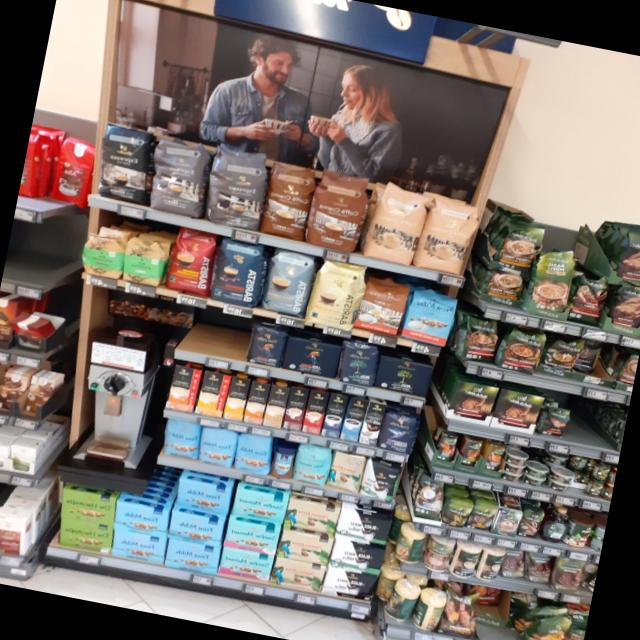Athiopien Bohne: (79, 230, 126, 280)
Athiopien Gemahlen: (120, 236, 168, 288)
BM Bohne: (337, 338, 381, 388)
BM Gemahlen: (374, 356, 434, 399)
BW Bohne: (359, 460, 404, 506)
BW Gemahlen: (334, 510, 392, 550), (328, 540, 386, 578), (322, 566, 378, 604)
Barista CB: (304, 258, 367, 334)
Barista CC: (260, 248, 316, 319)
Barista Espresso: (207, 237, 268, 309)
Barista Kolumbien: (163, 227, 219, 299)
C Fino Bohne: (378, 408, 421, 456)
CC Mild: (364, 184, 430, 267), (414, 197, 482, 277)
CC Vollmundig: (354, 274, 412, 337)
CC Vollmundig 36 Pads: (305, 166, 372, 253), (258, 160, 316, 241)
Colombia BB Bohne: (326, 451, 366, 495)
Colombia BB Gemahlen: (282, 497, 341, 538), (276, 528, 334, 566), (269, 556, 326, 594)
Empty Shelf: (178, 306, 250, 362)
Espresso Aromatisch: (202, 144, 270, 230), (146, 132, 213, 218)
Espresso Kraftig: (90, 120, 156, 204)
FM 36 Pads: (400, 286, 459, 349)
FM Bohne: (232, 432, 274, 478), (159, 418, 202, 461), (196, 425, 238, 469)
FM Gemahlen: (112, 499, 172, 538), (108, 527, 167, 566), (175, 478, 232, 518), (164, 538, 221, 577), (167, 511, 224, 548)
FM Instant: (270, 442, 298, 481)
Herzhatfe Mundig: (59, 486, 118, 528), (56, 518, 114, 554)
LG Bohne: (245, 322, 290, 369)
LG Gemahlen: (282, 336, 342, 379)
SM Bohne: (290, 443, 332, 488)
SM Gemahlen: (231, 486, 289, 526), (218, 546, 275, 585), (223, 518, 281, 556)
Simo CCMild: (196, 371, 232, 418)
Simo CCMild bigpack: (223, 376, 250, 422)
Simo CCVollmundig: (167, 365, 202, 413)
Simo CCVollmundig bigpack: (243, 380, 270, 426)
Simo Decaff: (262, 384, 290, 429)
Simo Es Brazil: (302, 388, 328, 436)
Simo Es Caramel: (282, 386, 308, 432)
Simo Es Elegant: (359, 401, 386, 447)
Simo Es Kraft: (322, 392, 348, 440)
Simo Es Vanilla: (340, 396, 368, 444)
